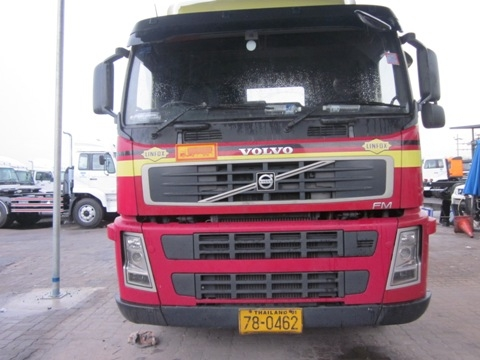truck: (90, 1, 450, 334)
